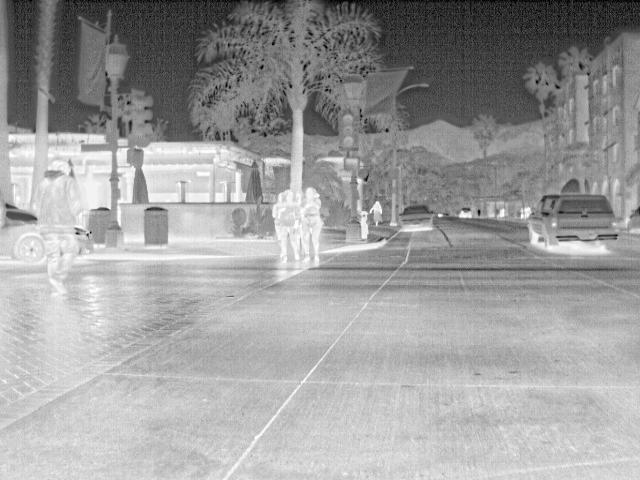car: (529, 192, 620, 256), (1, 206, 51, 266), (397, 204, 436, 232), (77, 227, 97, 257), (458, 206, 475, 220)
person: (35, 160, 85, 296), (297, 186, 325, 262), (278, 186, 299, 260), (367, 198, 384, 225)
